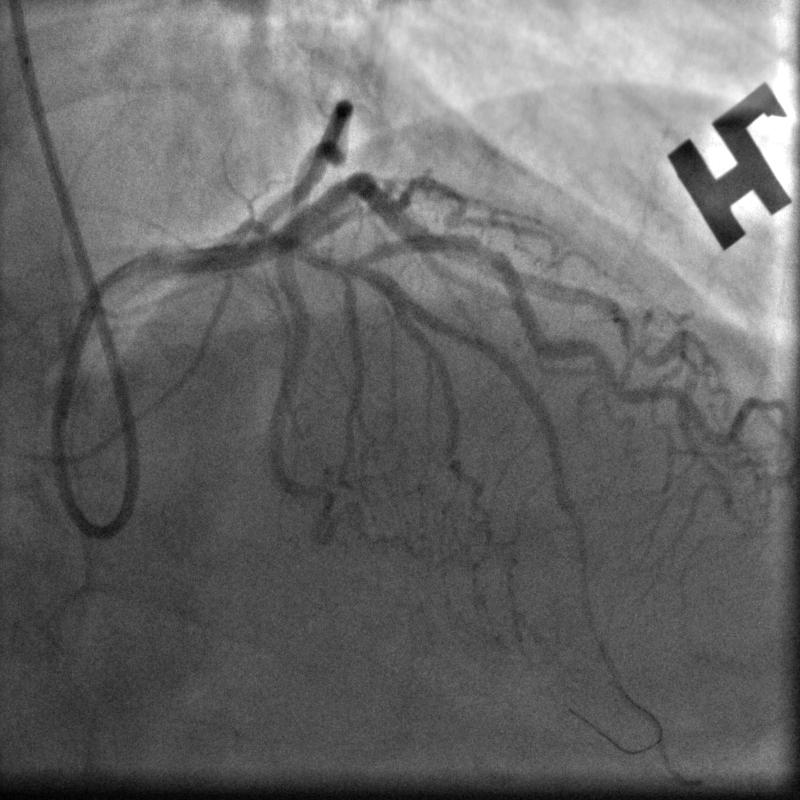Stenosis: (468, 228, 508, 268)
